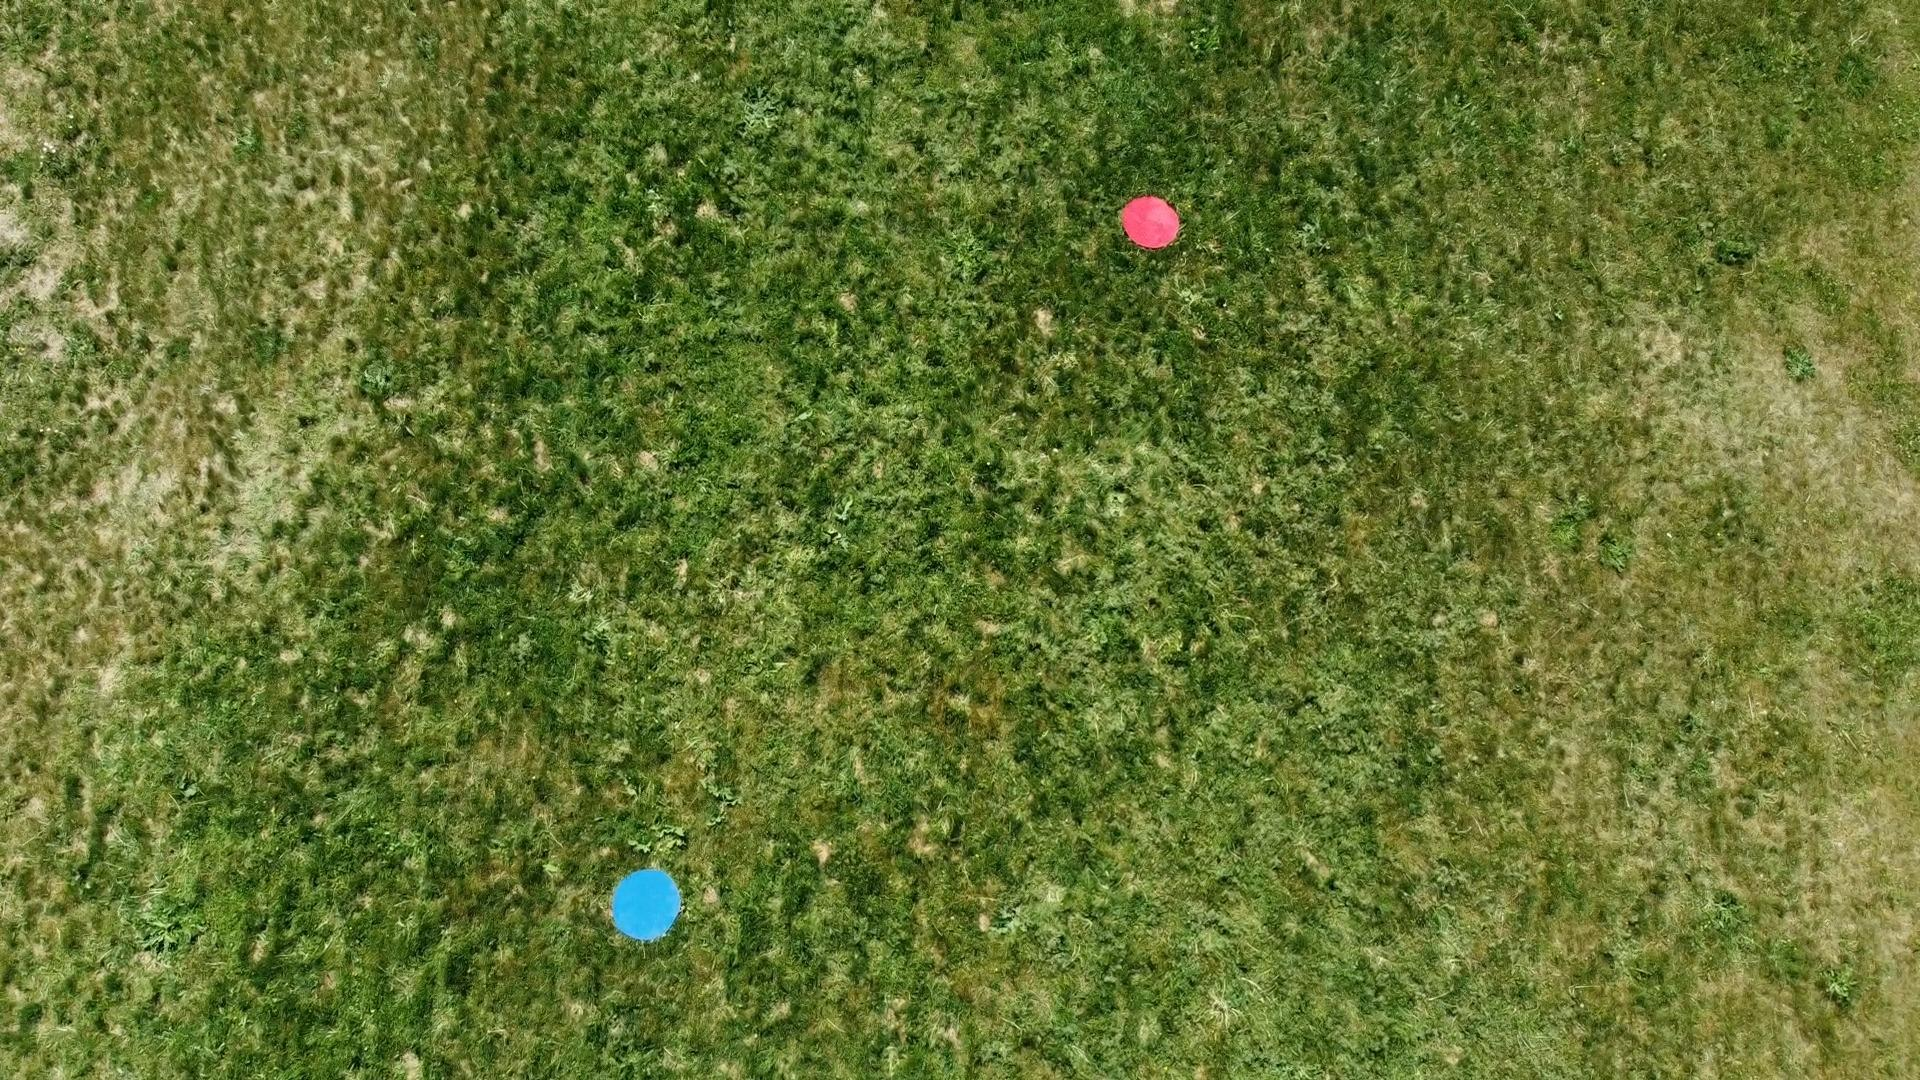Blue: (605, 866, 686, 943)
Red: (1120, 193, 1182, 252)
